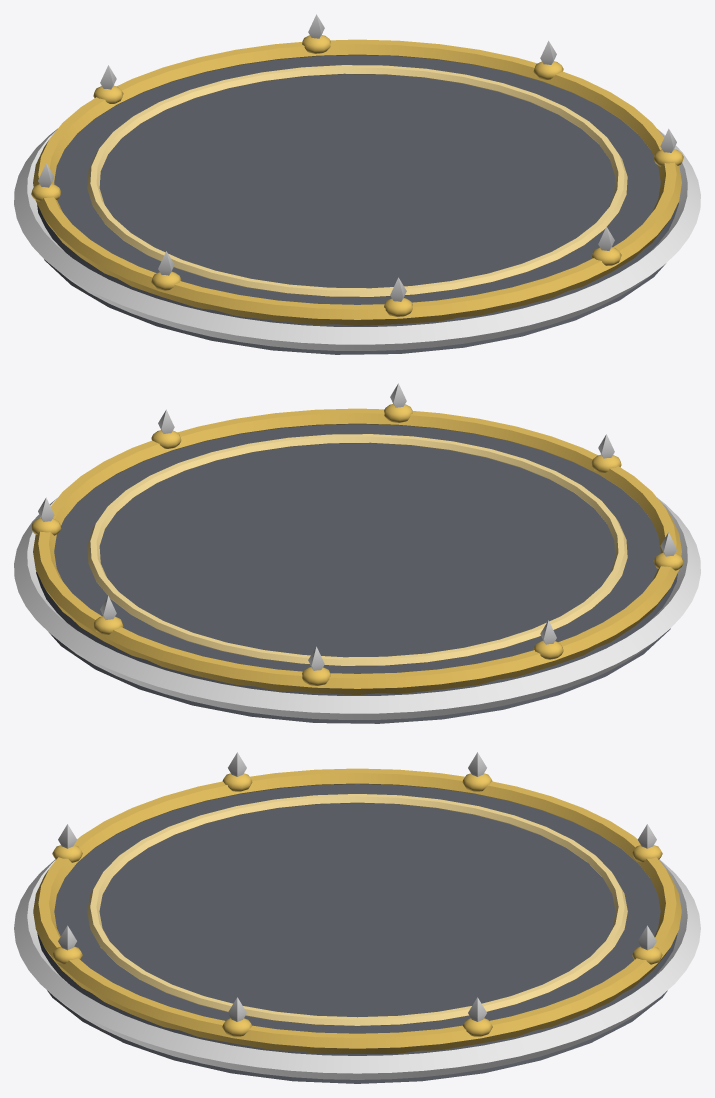
3 renders of one model, top to bottom at view 1: azimuth 30°, elevation 25°; view 2: azimuth 150°, elevation 25°; view 3: azimuth 270°, elevation 25°, orthographic.
Visible parts, largest first — view 1: base_s5; view 2: base_s5; view 3: base_s5.
Boxes of the visible parts, left/top/right/bottom form: base_s5: left=14, top=14, right=700, bottom=354; base_s5: left=14, top=383, right=700, bottom=723; base_s5: left=14, top=752, right=700, bottom=1083.
Bounding box in the file's own units: 1.56 × 0.175 × 1.56.
Materials: 2 (1 with a texture image).
